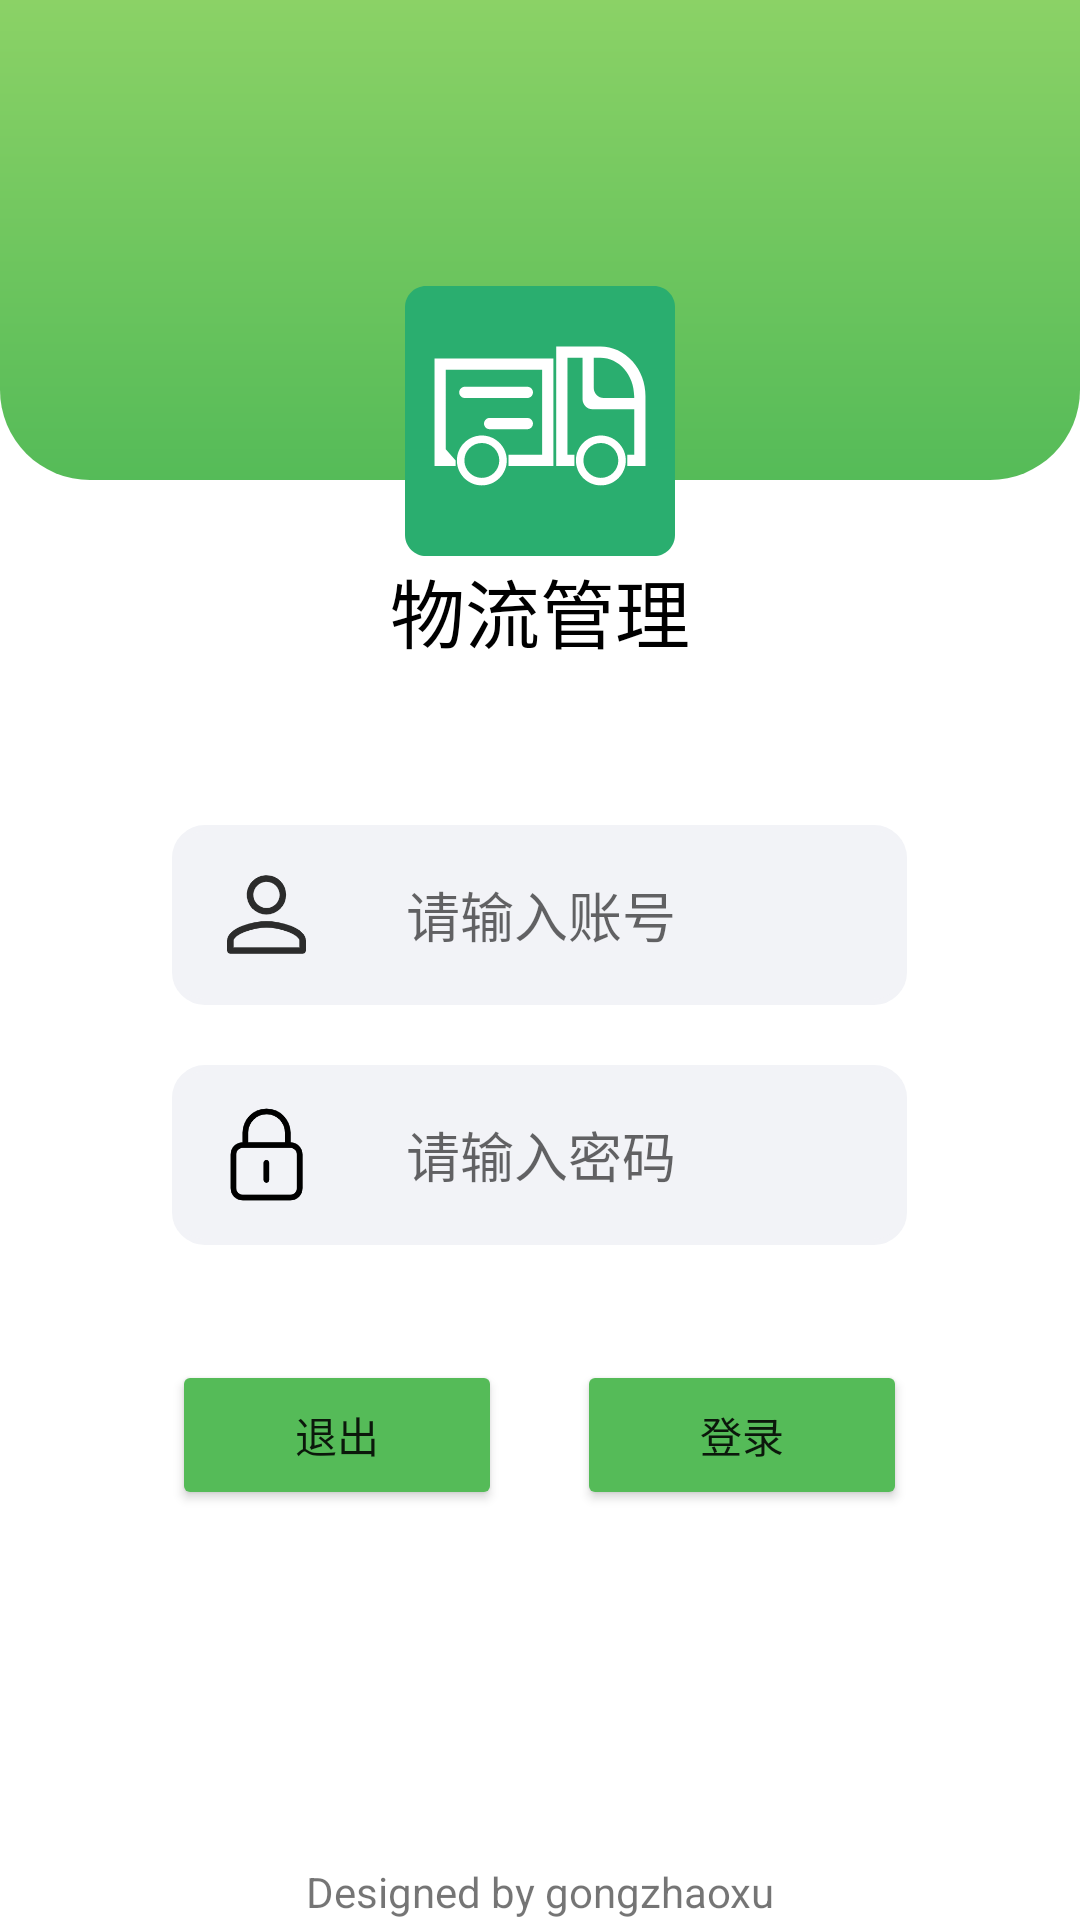

Icons on this 1080x1920 Android screen, each with the point to tap as (x,y):
password: (266,1154)
user: (266,914)
